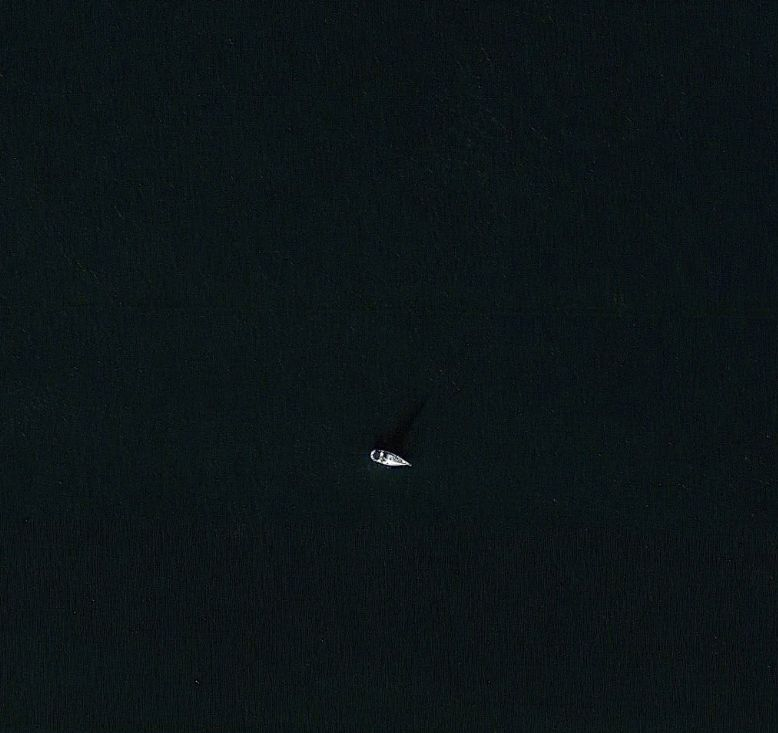boat: (365, 443, 416, 476)
